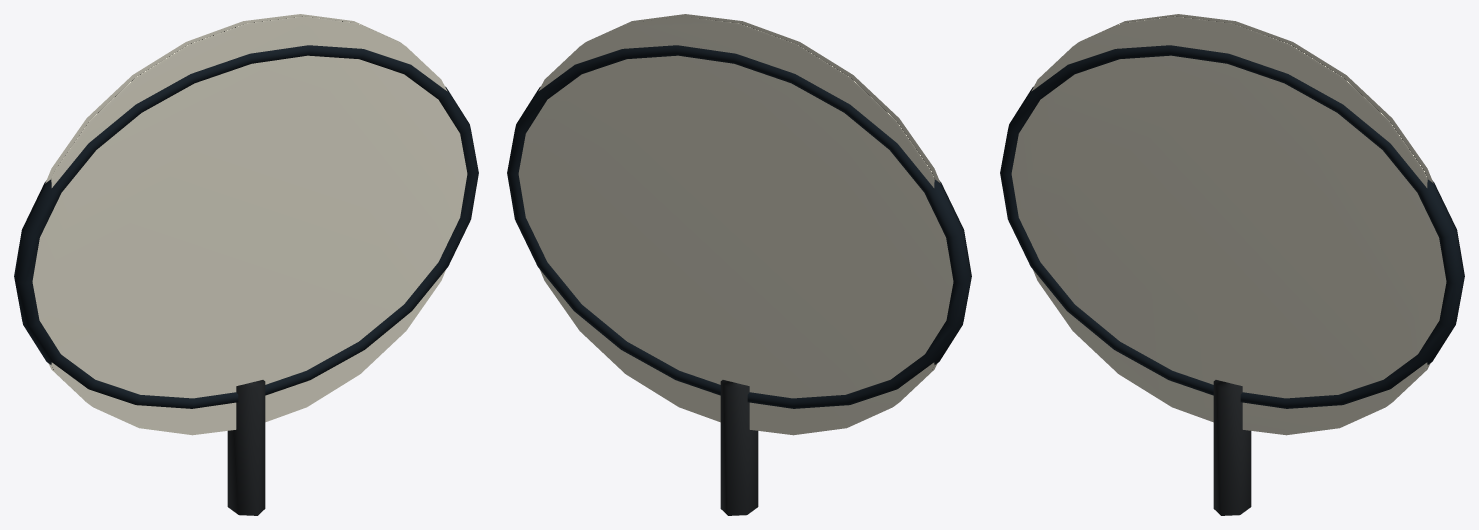
File: P078_bounce_reflector_rebuilt.glb
3 renders of one model, left to right at view 1: azimuth 30°, elevation 25°; view 2: azimuth 150°, elevation 25°; view 3: azimuth 330°, elevation 25°, orthographic.
Parts seen in each view (by area): view 1: white, dark, rubber; view 2: white, dark, rubber; view 3: white, dark, rubber.
Part boxes in pixels (left/top/right/bottom): white: left=32, top=14, right=467, bottom=435; dark: left=14, top=45, right=478, bottom=408; rubber: left=227, top=380, right=265, bottom=515; white: left=518, top=14, right=953, bottom=435; dark: left=507, top=45, right=971, bottom=408; rubber: left=720, top=380, right=758, bottom=515; white: left=1011, top=14, right=1446, bottom=435; dark: left=1000, top=45, right=1464, bottom=408; rubber: left=1213, top=380, right=1251, bottom=515.
Size of the model in its own units: 0.558 by 0.558 by 0.0468.
